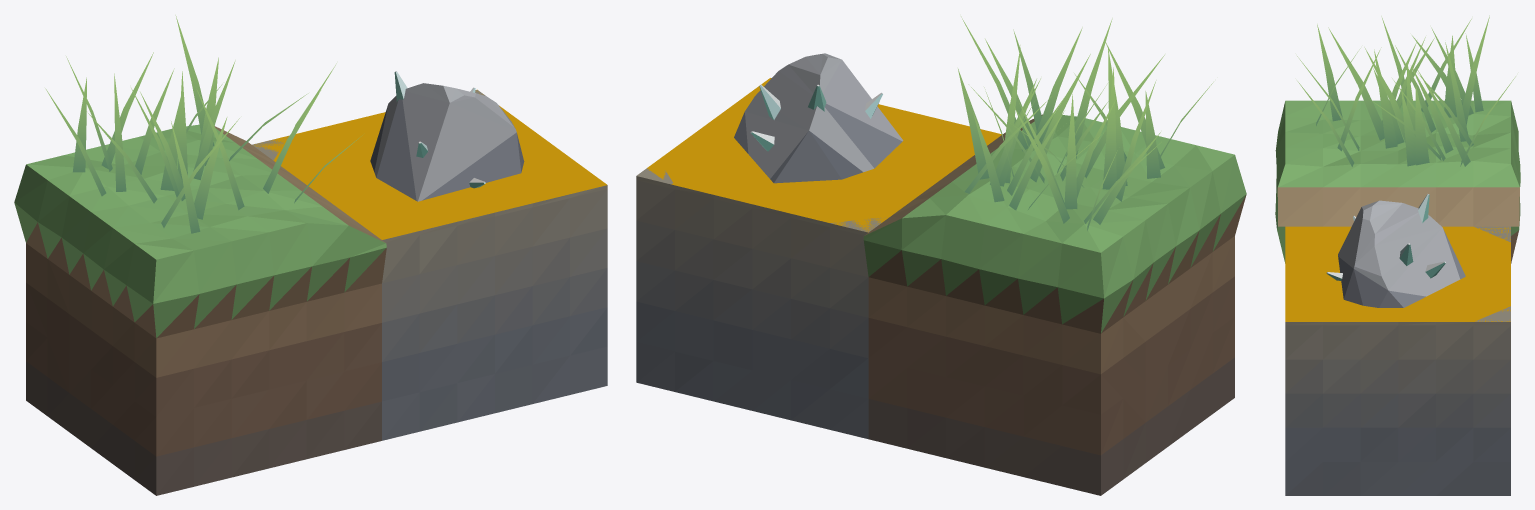
File: cenario_validacao_v2.glb
3 renders of one model, left to right at view 1: azimuth 30°, elevation 25°; view 2: azimuth 150°, elevation 25°; view 3: azimuth 270°, elevation 25°, orthographic. The views are drawn at different scales.
Visible parts, largest first — view 1: Soil_Block, Riverbed, Water_Surface, Rock_Submerged, Grass_Tuft; view 2: Soil_Block, Riverbed, Water_Surface, Grass_Tuft, Rock_Submerged, Ore_Crystals; view 3: Riverbed, Soil_Block, Water_Surface, Grass_Tuft, Rock_Submerged, Ore_Crystals.
Part boxes in pixels (left/top/right/bottom): Soil_Block: left=14, top=124, right=386, bottom=495; Riverbed: left=252, top=90, right=607, bottom=440; Water_Surface: left=254, top=89, right=606, bottom=239; Rock_Submerged: left=370, top=83, right=524, bottom=201; Grass_Tuft: left=45, top=15, right=362, bottom=233; Soil_Block: left=863, top=114, right=1246, bottom=495; Riverbed: left=636, top=168, right=886, bottom=439; Water_Surface: left=647, top=78, right=1001, bottom=232; Grass_Tuft: left=958, top=16, right=1213, bottom=230; Rock_Submerged: left=734, top=53, right=903, bottom=183; Ore_Crystals: left=750, top=84, right=882, bottom=151; Riverbed: left=1285, top=226, right=1510, bottom=495; Soil_Block: left=1275, top=100, right=1520, bottom=263; Water_Surface: left=1285, top=226, right=1510, bottom=321; Grass_Tuft: left=1297, top=15, right=1515, bottom=166; Rock_Submerged: left=1338, top=200, right=1465, bottom=307; Ore_Crystals: left=1326, top=194, right=1445, bottom=280.
Bounding box in the file's own units: 2.07 × 1.48 × 1.09.
